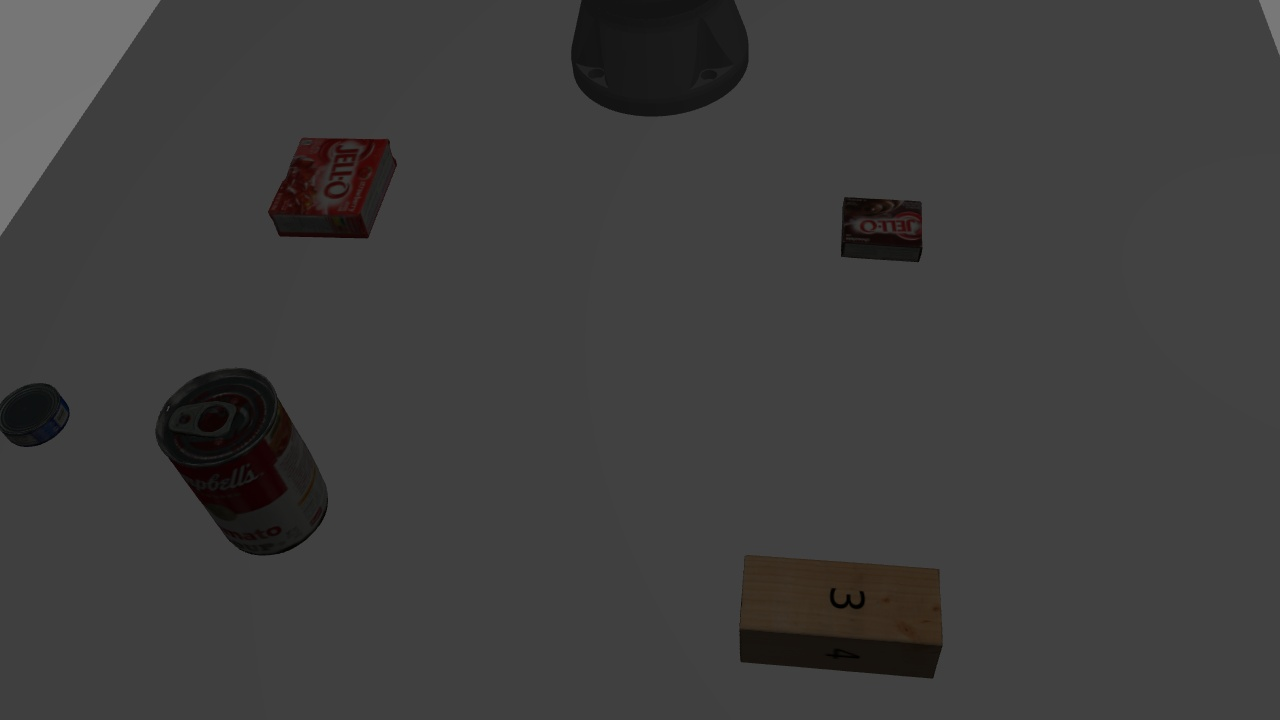gelatin_box: (260, 132, 402, 236)
pudding_box: (835, 198, 928, 263)
tomato_soup_can: (144, 365, 338, 563)
tuna_fish_can: (3, 382, 73, 449)
wood_block: (734, 547, 945, 684)
